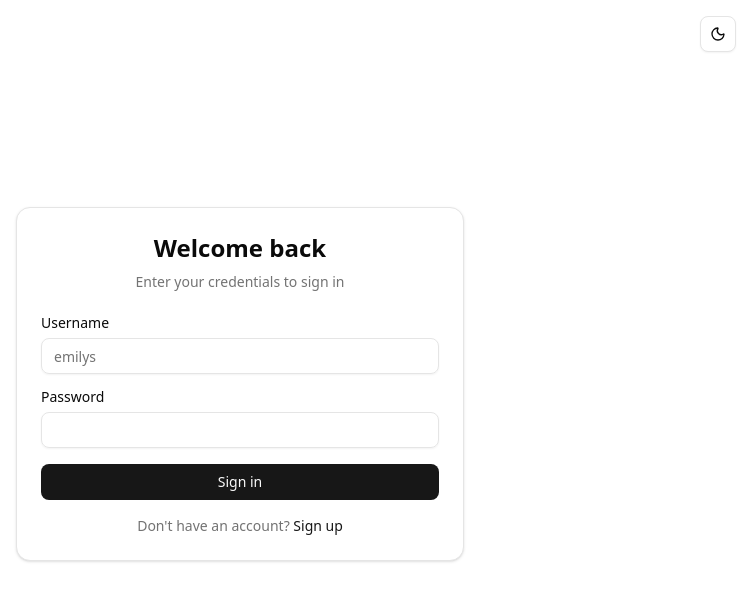
Test case: Authentication › shows error message with invalid credentials
In the field named "username": (240, 356) [41, 338, 439, 374], type "invaliduser"
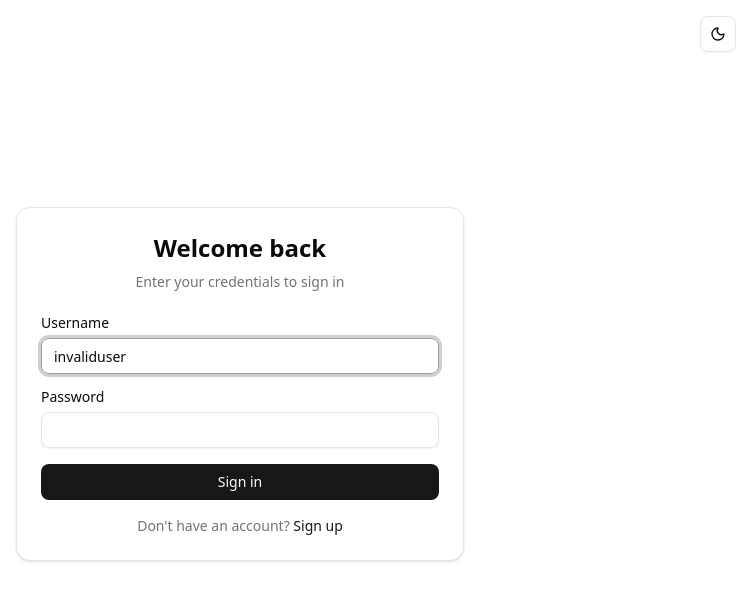
In the password field named "password": (240, 430) [41, 412, 439, 448], type "wrongpassword"
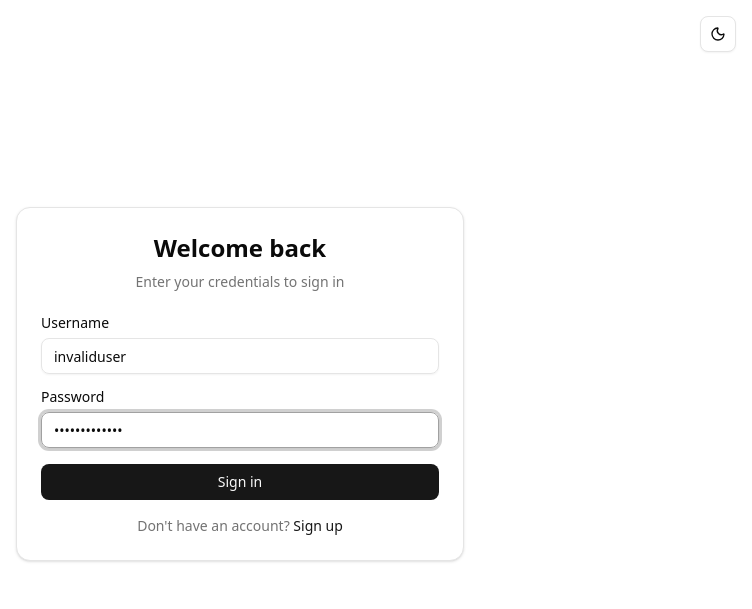
Click the submit button: (240, 482) [41, 464, 439, 500]
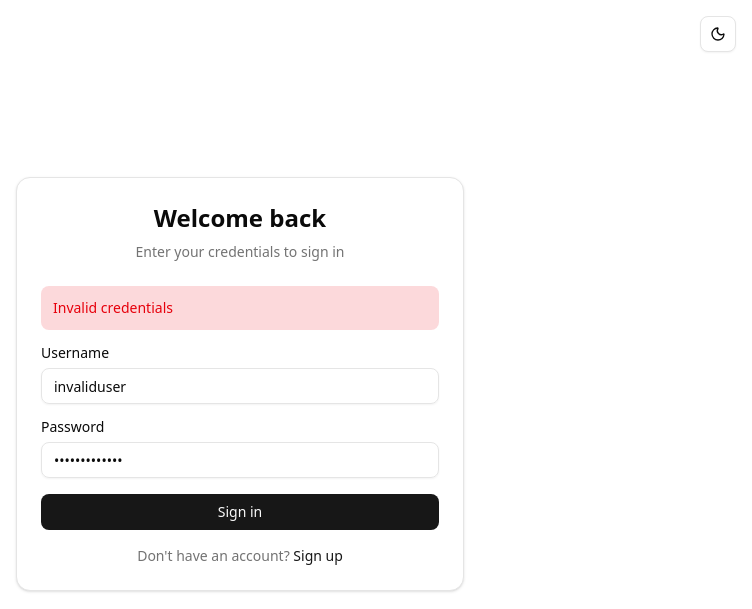
Expected: the text "Invalid credentials" is shown, [41, 286, 439, 330]
